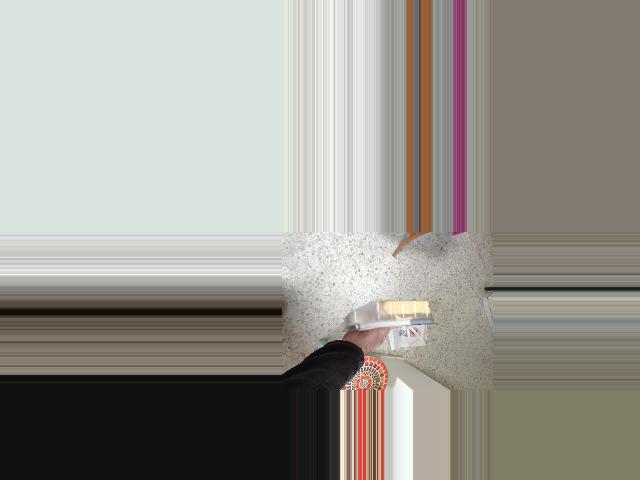cheese: (349, 289, 435, 348)
